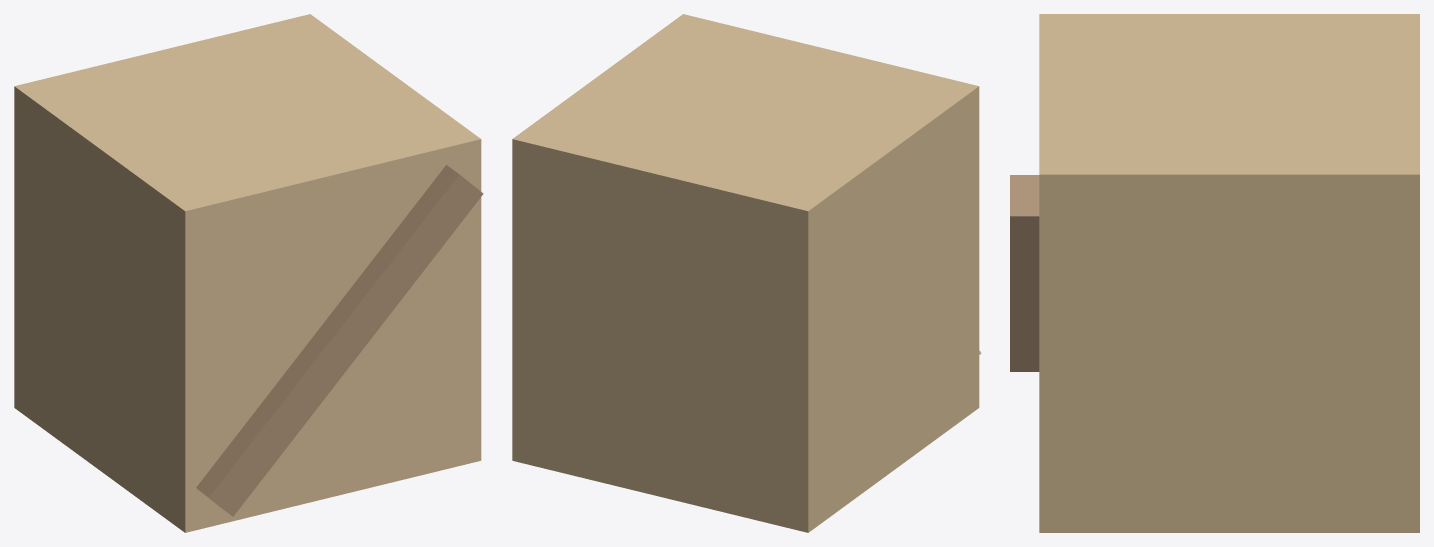
File: crate.glb
3 views of the same model, side by side, from view 1: azimuth 30°, elevation 25°; view 2: azimuth 150°, elevation 25°; view 3: azimuth 270°, elevation 25° (orthographic). The views are drawn at different scales.
Visible parts, largest first — view 1: crate_MAT_edge, crate_MAT_wood; view 2: crate_MAT_edge; view 3: crate_MAT_edge, crate_MAT_wood.
Part boxes in pixels (x1,y1,x2,y2): crate_MAT_edge: [14, 14, 481, 532]; crate_MAT_wood: [196, 165, 483, 516]; crate_MAT_edge: [512, 14, 979, 532]; crate_MAT_edge: [1039, 14, 1419, 532]; crate_MAT_wood: [1010, 175, 1039, 371].
Bounding box in the file's own units: 0.52 × 0.54 × 0.56.
